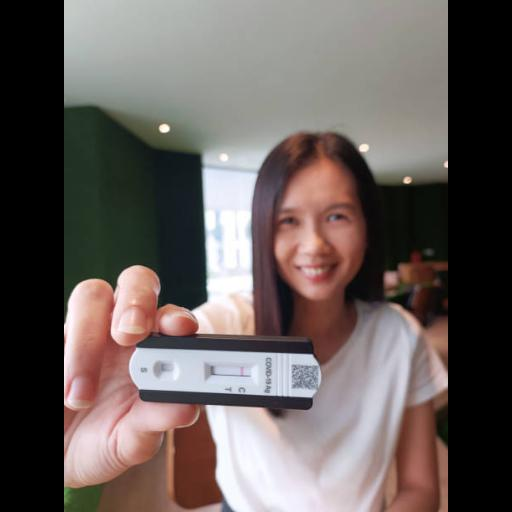Neg: (125, 347, 323, 401)
